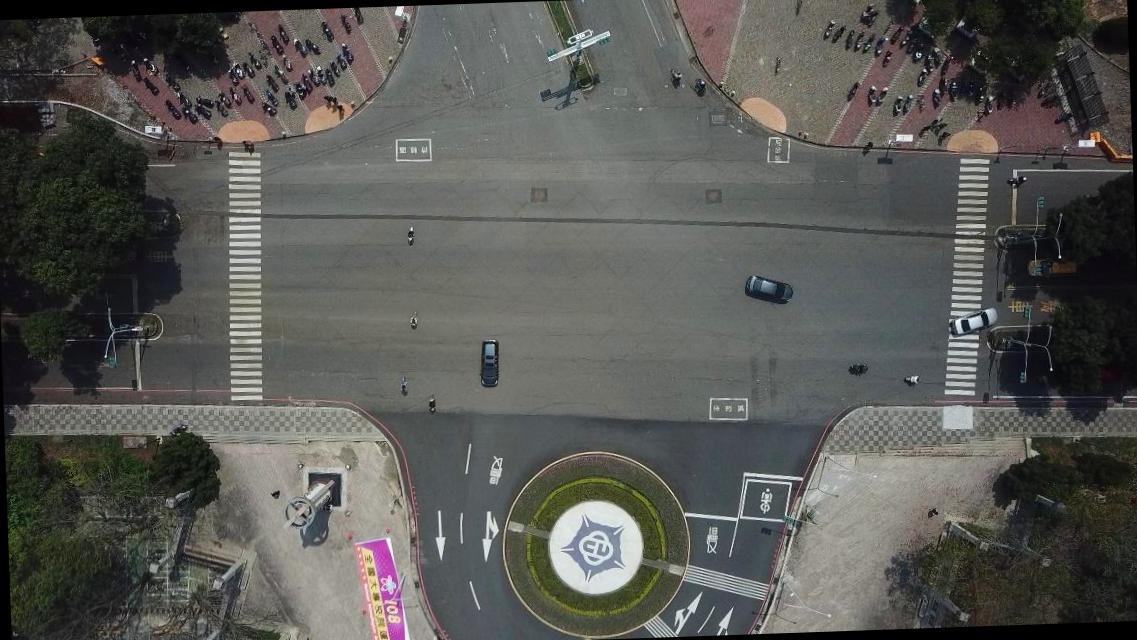vehicle: (743, 273, 792, 307), (948, 303, 996, 337), (476, 336, 500, 388), (1027, 253, 1075, 277)
